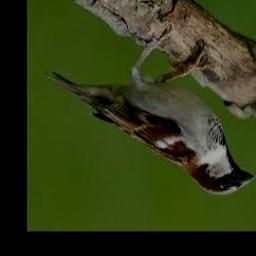Sparrow: (42, 26, 254, 196)
